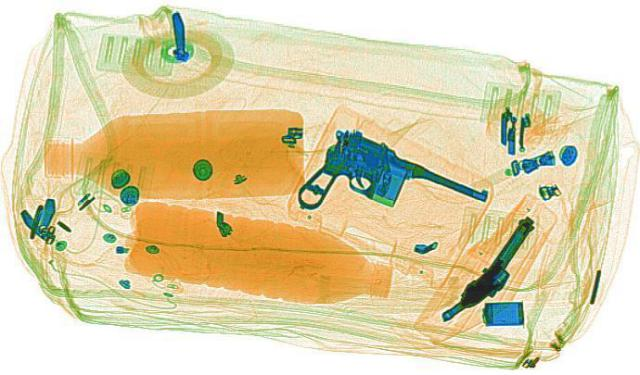Gun: (260, 121, 510, 246), (425, 209, 557, 326)
